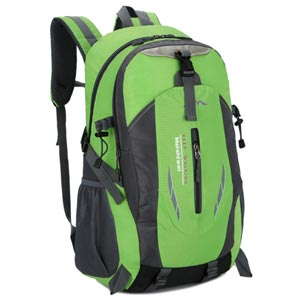backpack: (38, 3, 265, 294)
